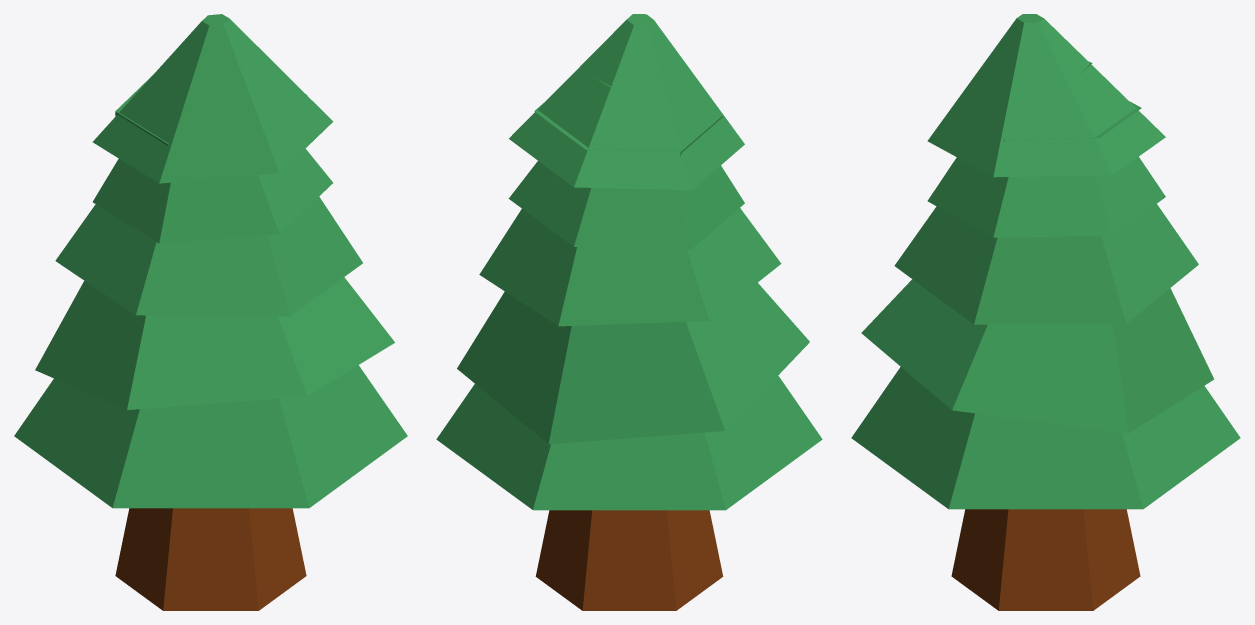
The model's file is SmrkSmall.fbx.
3 views of the same model, side by side, from view 1: azimuth 30°, elevation 25°; view 2: azimuth 150°, elevation 25°; view 3: azimuth 270°, elevation 25° (orthographic).
Parts seen in each view (by area): view 1: malej smrk; view 2: malej smrk; view 3: malej smrk.
Part boxes in pixels (box(x1,y1,x2,y2)): malej smrk: box(14, 14, 407, 610); malej smrk: box(436, 14, 822, 610); malej smrk: box(851, 14, 1240, 610).
Bounding box in the file's own units: 315 × 575 × 364.
